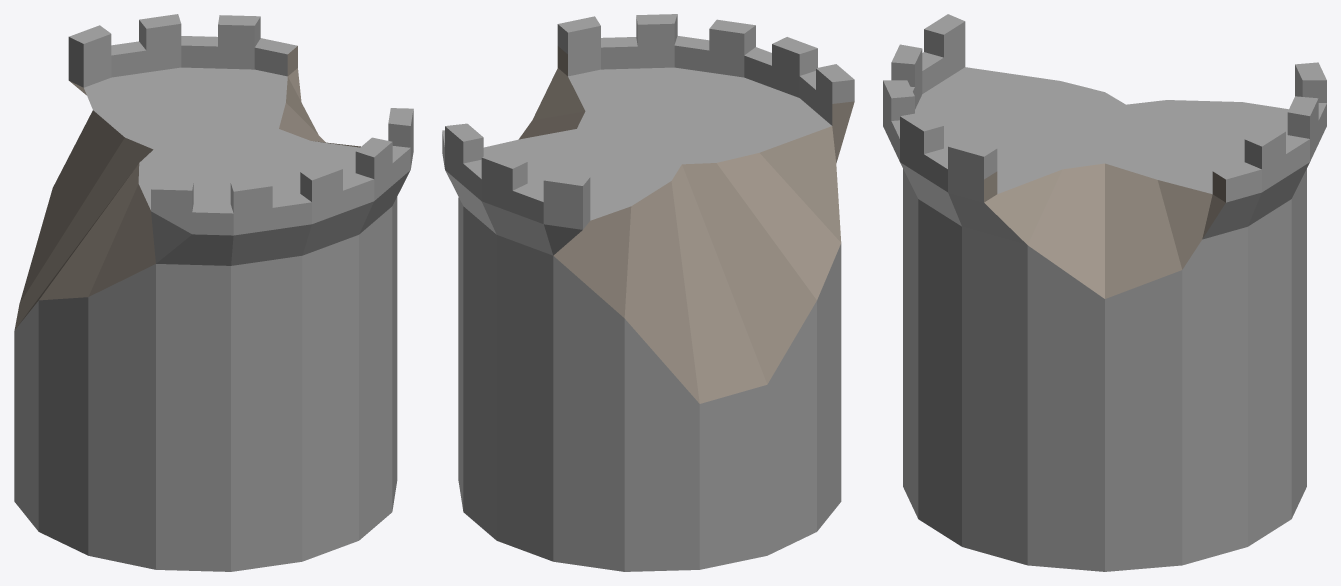
File: tower2Damaged.fbx
3 views of the same model, side by side, from view 1: azimuth 30°, elevation 25°; view 2: azimuth 150°, elevation 25°; view 3: azimuth 270°, elevation 25° (orthographic). The views are drawn at different scales.
Parts seen in each view (by area): view 1: tower; view 2: tower; view 3: tower.
Part boxes in pixels (bbox=[...]): tower: bbox=[14, 14, 413, 571]; tower: bbox=[442, 14, 854, 571]; tower: bbox=[883, 14, 1326, 571].
Size of the model in its own units: 4 by 4.44 by 4.4.
